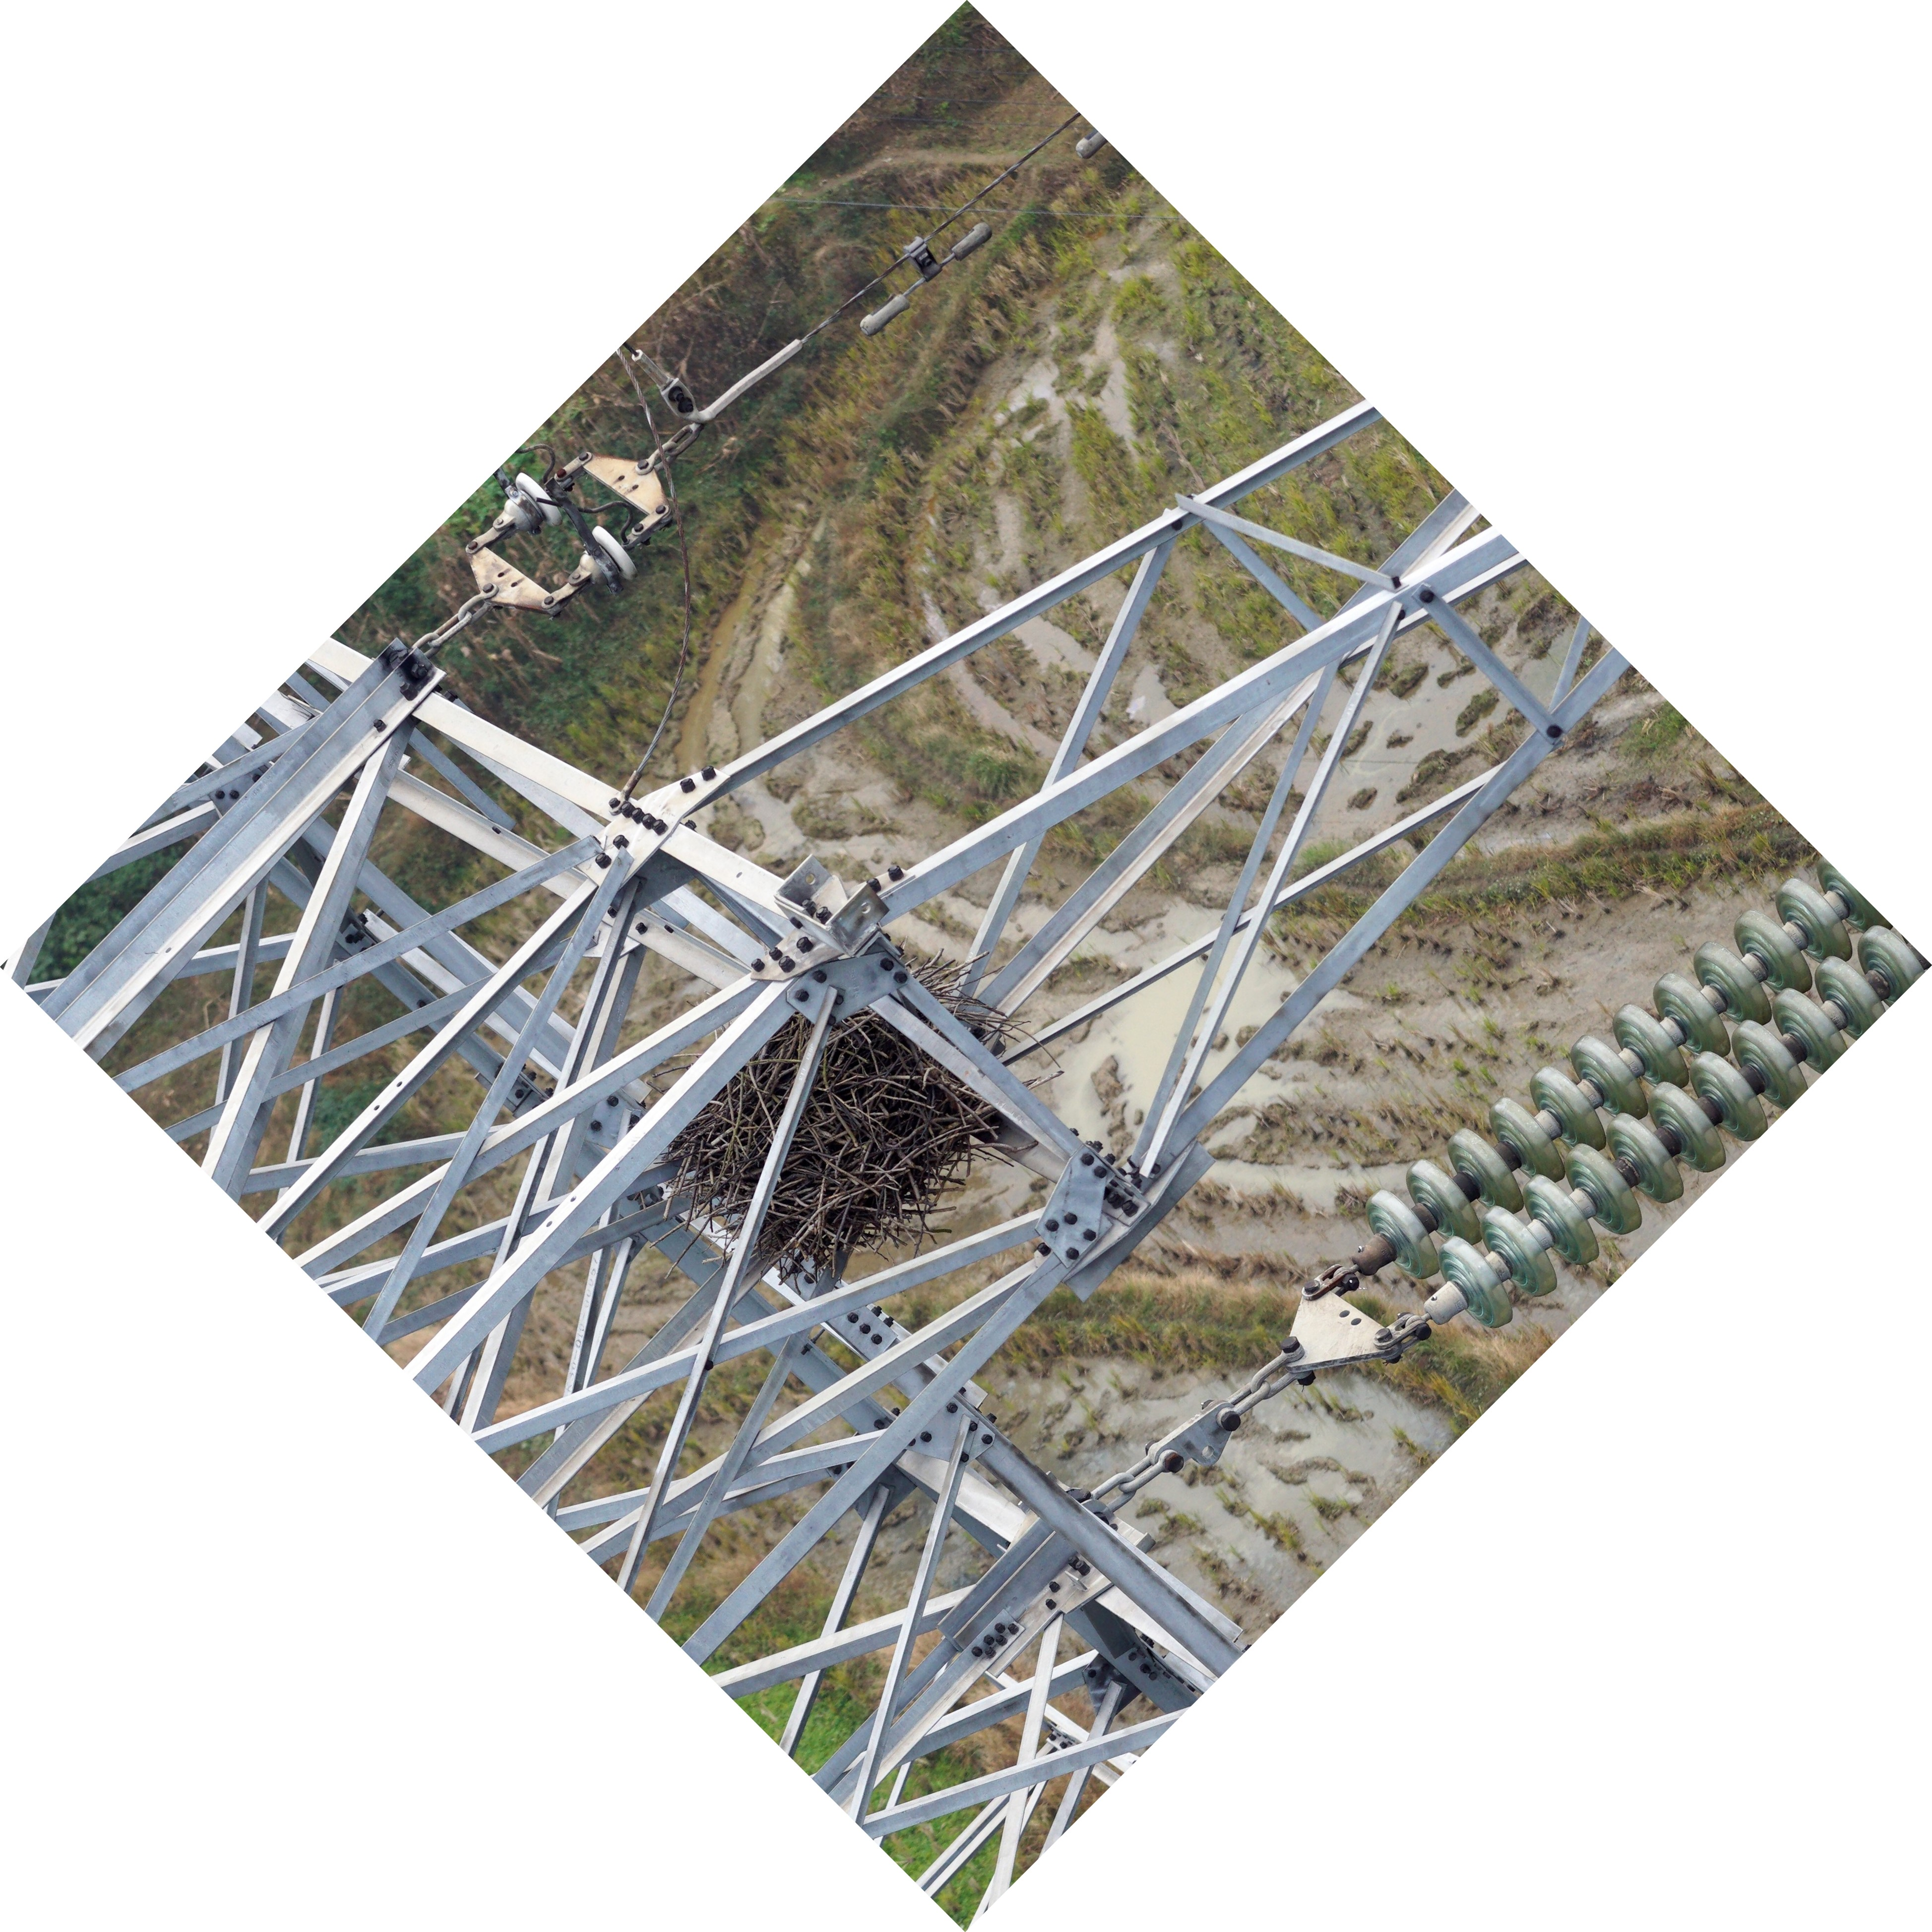niaowo: (602, 918, 1039, 1265)
